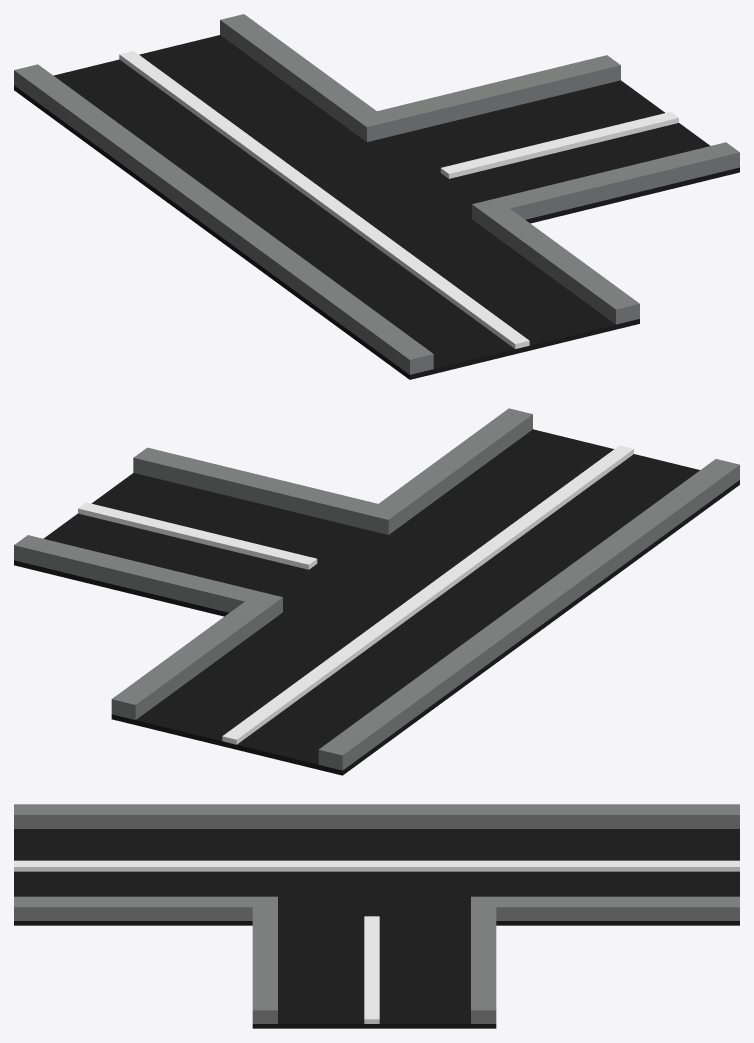
File: roadT-section.gltf
3 views of the same model, one above another, from view 1: azimuth 30°, elevation 25°; view 2: azimuth 150°, elevation 25°; view 3: azimuth 270°, elevation 25° (orthographic). The views are drawn at different scales.
Visible parts, largest first — view 1: RoadPlane (×4), gutter (×7), roadLine (×4); view 2: RoadPlane (×4), gutter (×7), roadLine (×4); view 3: RoadPlane (×4), gutter (×7), roadLine (×4).
Boxes of the visible parts, x1=… form: RoadPlane (×4): x1=14, y1=35, x2=739, y2=379; gutter (×7): x1=14, y1=14, x2=739, y2=374; roadLine (×4): x1=119, y1=51, x2=678, y2=348; RoadPlane (×4): x1=14, y1=429, x2=739, y2=775; gutter (×7): x1=14, y1=408, x2=739, y2=770; roadLine (×4): x1=78, y1=445, x2=633, y2=744; RoadPlane (×4): x1=14, y1=829, x2=739, y2=1028; gutter (×7): x1=14, y1=804, x2=739, y2=1023; roadLine (×4): x1=14, y1=860, x2=739, y2=1023.
Size of the model in its own units: 6 by 0.25 by 8.94.
1 material, 1 textured.
